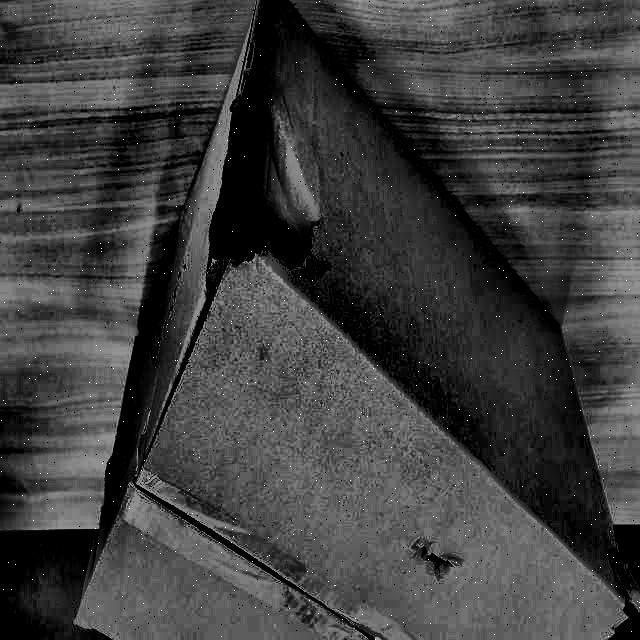box: (58, 1, 640, 640)
hole: (196, 38, 330, 330), (408, 509, 459, 595), (106, 432, 125, 506), (141, 334, 172, 378)
